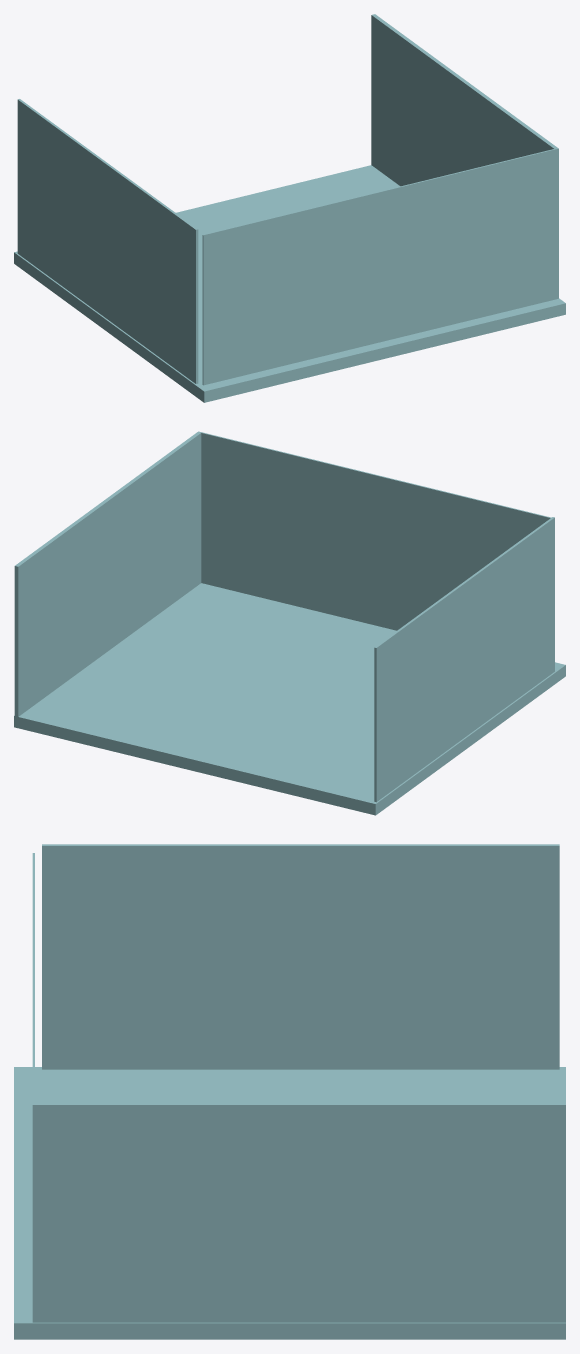
The model's file is quarto1.glb.
3 views of the same model, one above another, from view 1: azimuth 30°, elevation 25°; view 2: azimuth 150°, elevation 25°; view 3: azimuth 270°, elevation 25° (orthographic). The views are drawn at different scales.
Visible parts, largest first — view 1: Mesh_Mesh_head_geo.001_lambert2SG.001; view 2: Mesh_Mesh_head_geo.001_lambert2SG.001; view 3: Mesh_Mesh_head_geo.001_lambert2SG.001.
Boxes of the visible parts, box(x1,y1,x2,y2) form: Mesh_Mesh_head_geo.001_lambert2SG.001: box(14, 14, 565, 402); Mesh_Mesh_head_geo.001_lambert2SG.001: box(14, 431, 565, 815); Mesh_Mesh_head_geo.001_lambert2SG.001: box(14, 844, 565, 1339).
Bounding box in the file's own units: 19.43 × 8.5 × 17.7.
